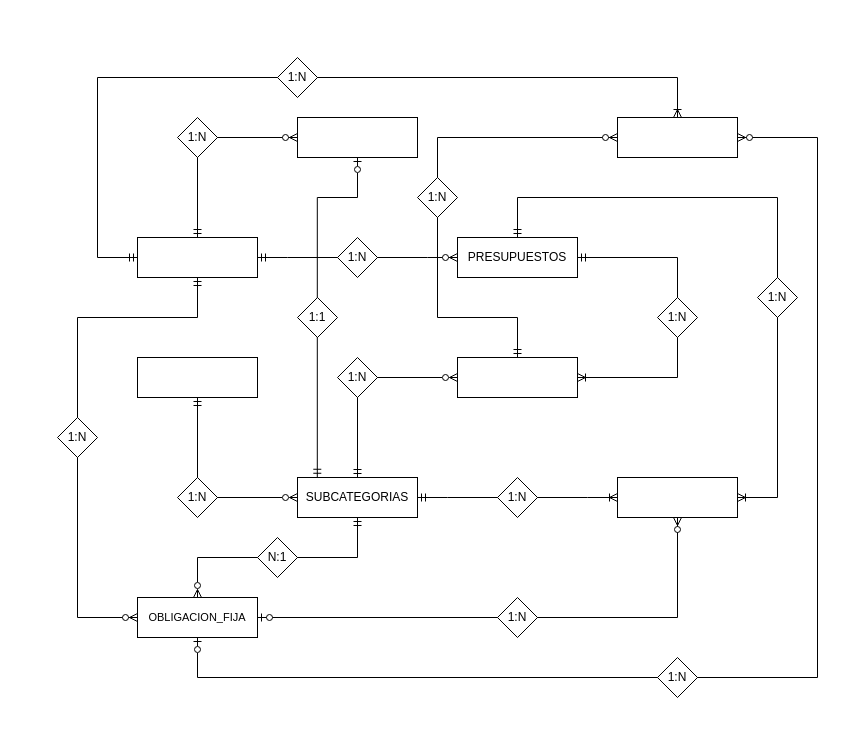
This 855x745 diagram has some shape labels left out. The centre of each missing label's shape, as x and y in pixels:
"ALERTA" goes at pixel 677 137.
"CATEGORIAS" goes at pixel 197 377.
"META_AHORRO" goes at pixel 357 137.
"PRESUPUESTO_DETALLE" goes at pixel 517 377.
"TRANSACCIONES" goes at pixel 677 497.
"USUARIOS" goes at pixel 197 257.
